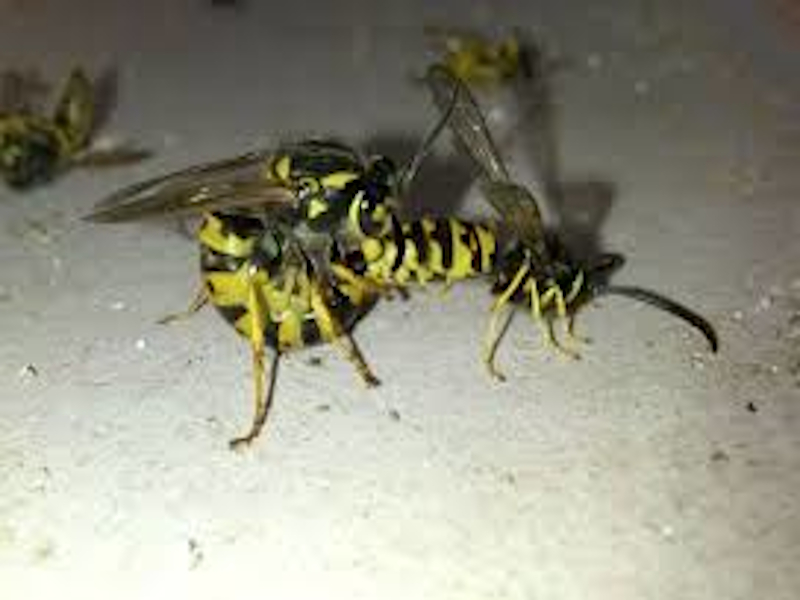chax: (112, 127, 394, 424), (364, 191, 655, 353)
